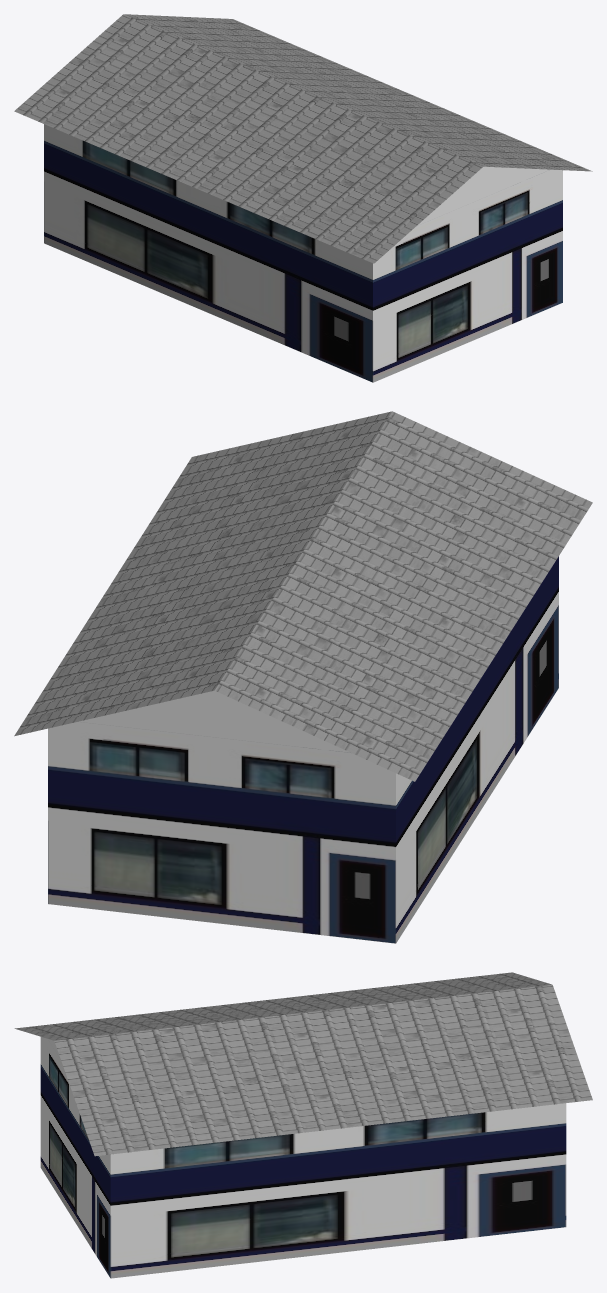
The picture shows the model from 3 angles, top to bottom: view 1: azimuth 30°, elevation 25°; view 2: azimuth 150°, elevation 25°; view 3: azimuth 270°, elevation 25°; orthographic projection. The views are drawn at different scales.
Visible parts, largest first — view 1: CityEngineMaterial_4_m, CityEngineMaterial_2_m, CityEngineMaterial_3_m; view 2: CityEngineMaterial_4_m, CityEngineMaterial_2_m, CityEngineMaterial_3_m; view 3: CityEngineMaterial_4_m, CityEngineMaterial_2_m.
Boxes of the visible parts, x1,y1,x2,y2 form: CityEngineMaterial_4_m: (14, 14, 592, 263); CityEngineMaterial_2_m: (44, 124, 562, 382); CityEngineMaterial_3_m: (417, 166, 549, 225); CityEngineMaterial_4_m: (14, 411, 592, 781); CityEngineMaterial_2_m: (48, 556, 558, 943); CityEngineMaterial_3_m: (79, 690, 349, 752); CityEngineMaterial_4_m: (14, 972, 592, 1156); CityEngineMaterial_2_m: (40, 1037, 566, 1278).
Bounding box in the file's own units: 19.74 × 9.24 × 26.26.
